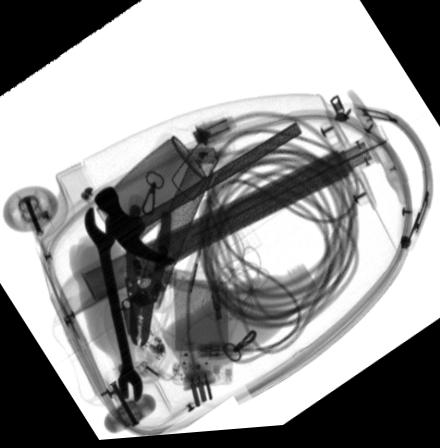Hammer: (92, 126, 301, 271)
Pliers: (123, 205, 172, 351)
Powerbank: (173, 272, 232, 394)
Wrench: (82, 207, 142, 405)
